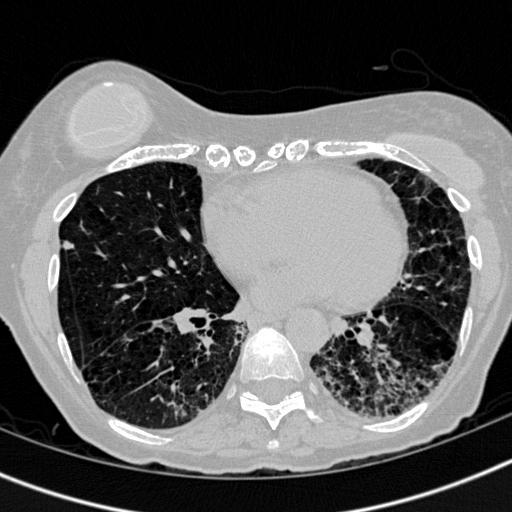nodule: (60, 238, 75, 253)
